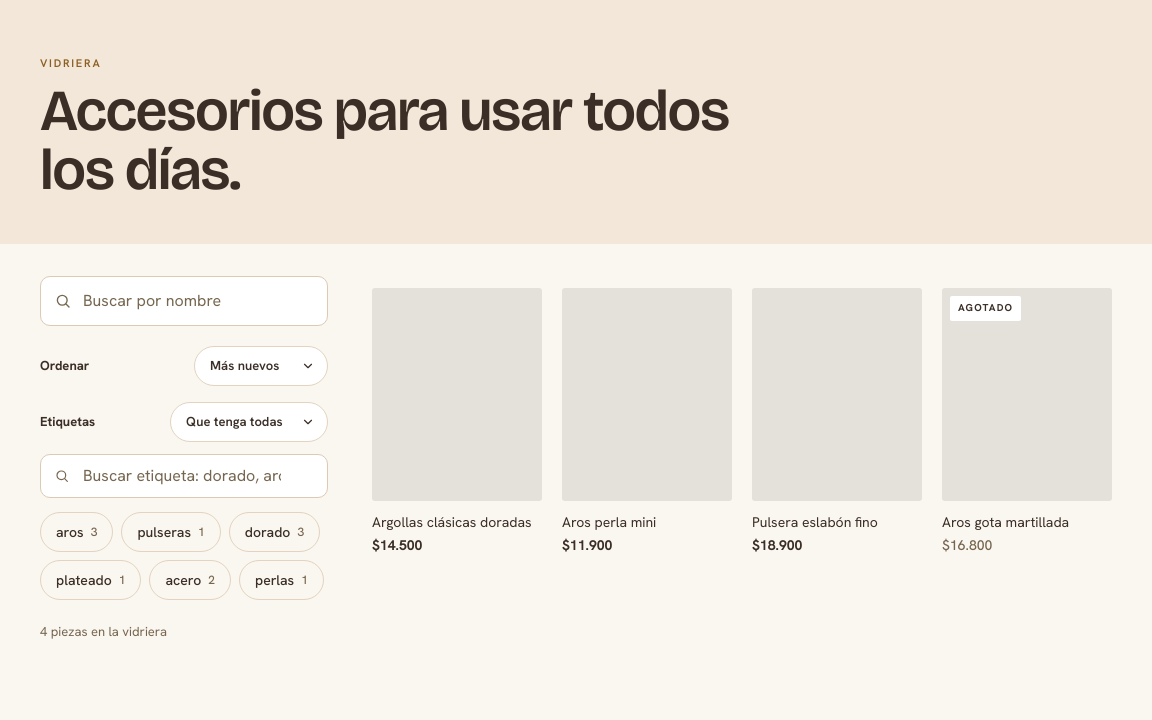
it: CatalogoPage › el buscador de etiquetas filtra las chips y Enter elige la primera
The width and height of the screenshot is (1152, 720).
Step 1. Type "pla" into the field named "Buscar etiqueta para filtrar" → (184, 476), box x1=40 y1=454 x2=328 y2=498
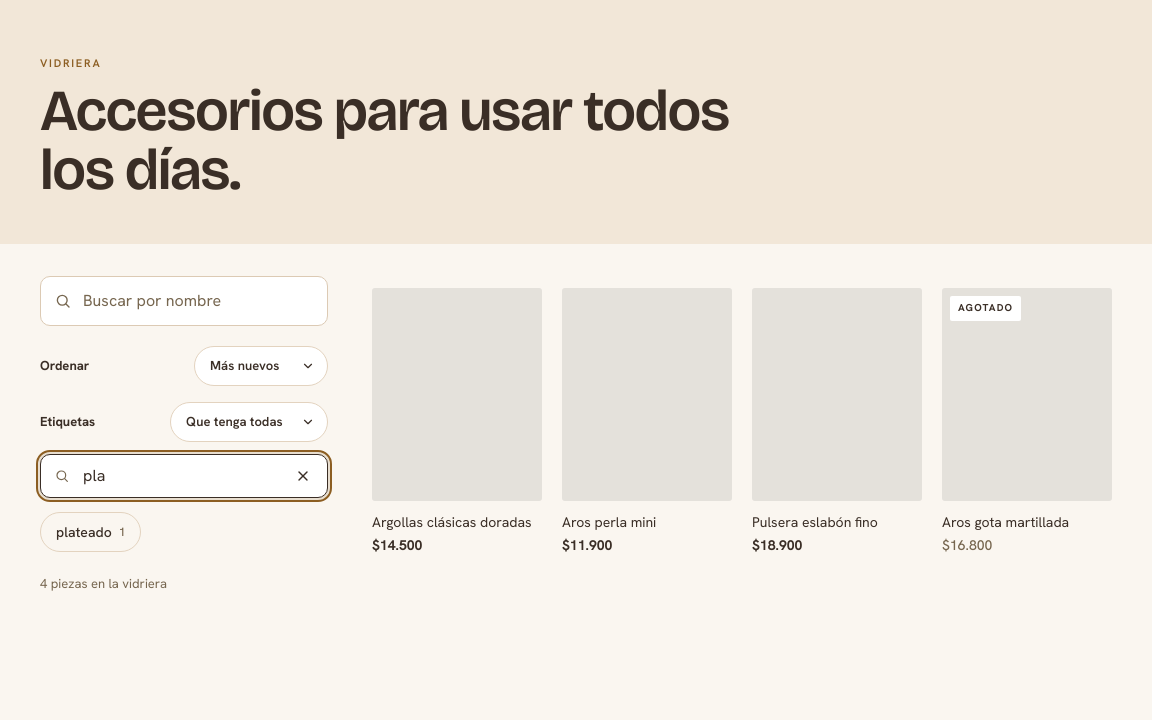
Step 2. Press Enter
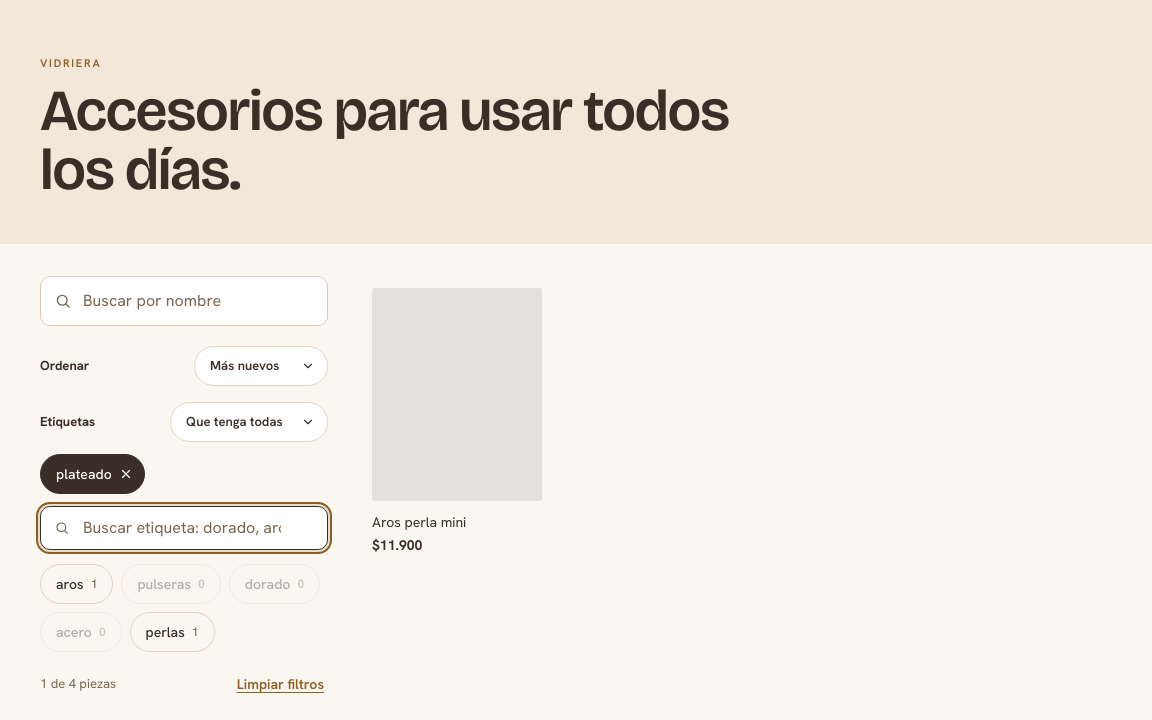
Now the field named "Buscar etiqueta para filtrar" is empty
Step 3. Type "oro" into the field named "Buscar etiqueta para filtrar" → (184, 528), box x1=40 y1=506 x2=328 y2=550
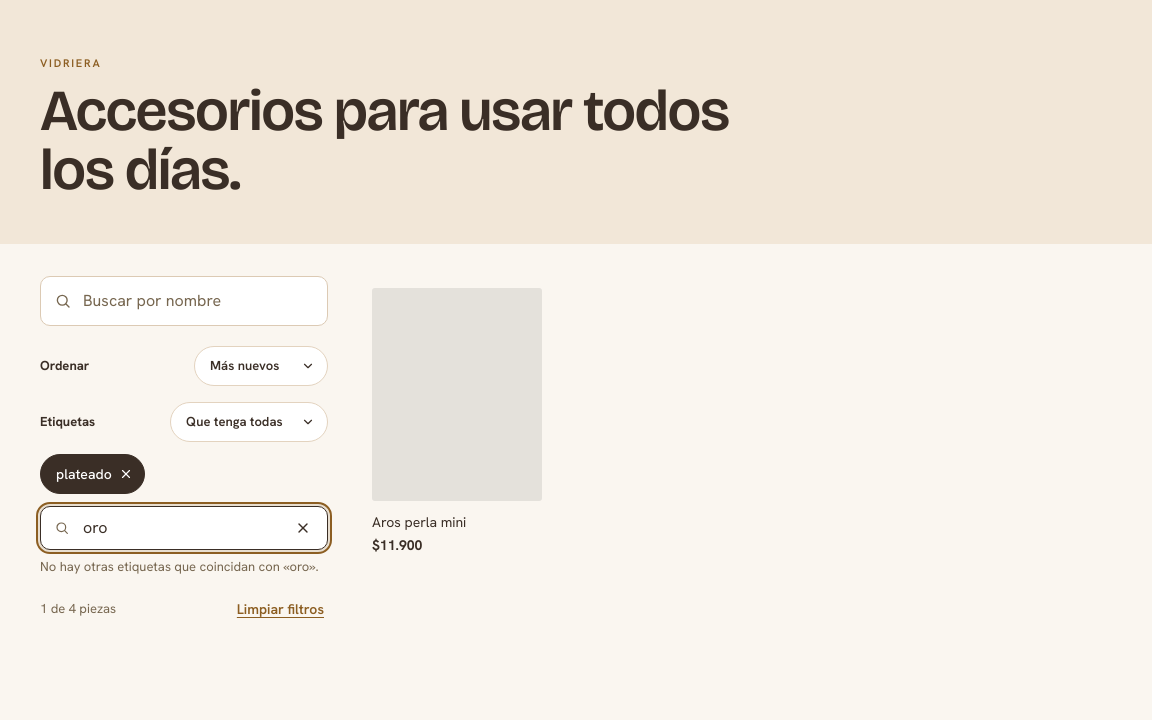
Now the text "No hay otras etiquetas que coincidan con «oro»." is shown, box x1=40 y1=558 x2=328 y2=577
